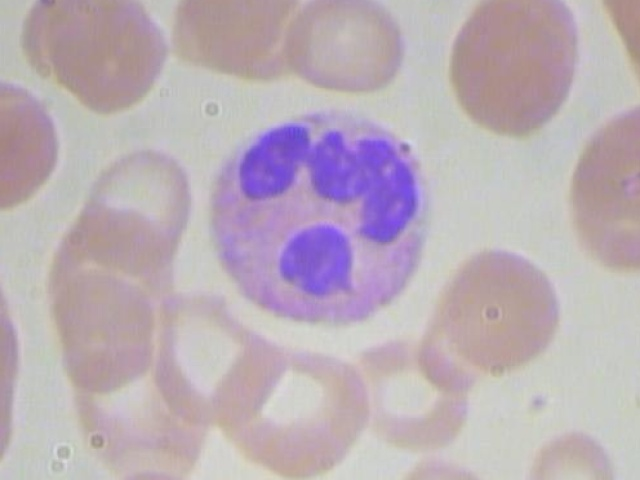RBC: (204, 341, 375, 480), (121, 282, 286, 425), (439, 0, 591, 138), (432, 237, 563, 372), (71, 145, 210, 255), (352, 326, 468, 451), (565, 90, 640, 283), (279, 0, 417, 94), (0, 72, 73, 218), (519, 419, 617, 480), (595, 0, 640, 61)
WBC: (184, 102, 443, 330)
